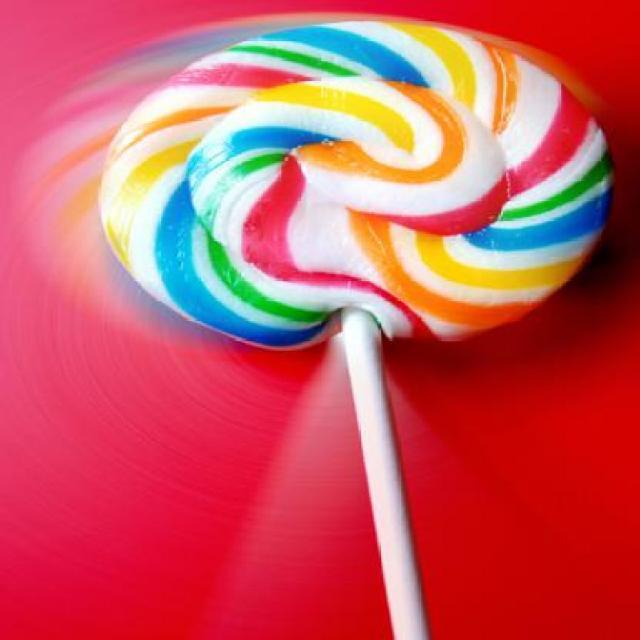Candy: (102, 11, 620, 348)
